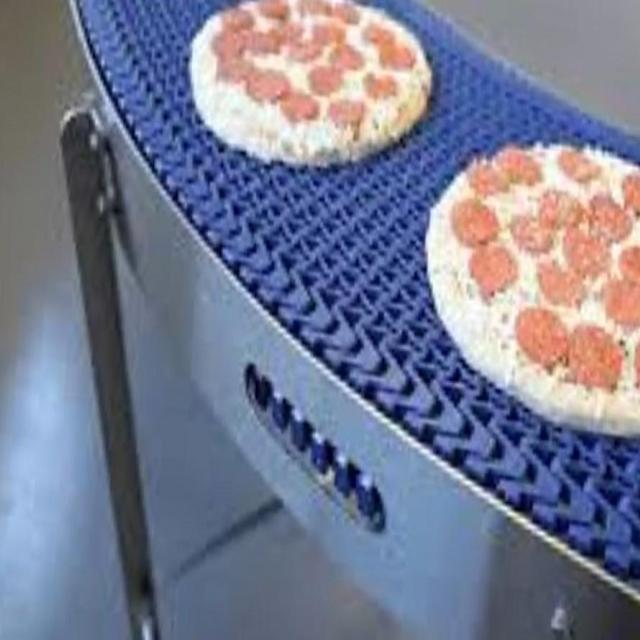food: (418, 126, 640, 443), (185, 0, 439, 173)
